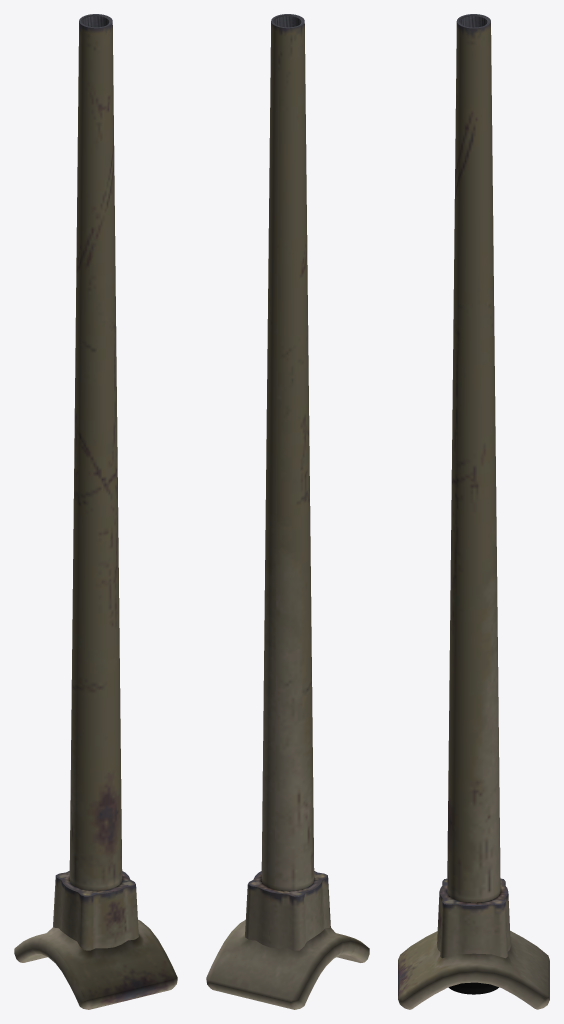
File: Gun_03.glb
3 views of the same model, side by side, from view 1: azimuth 30°, elevation 25°; view 2: azimuth 150°, elevation 25°; view 3: azimuth 270°, elevation 25° (orthographic).
Visible parts, largest first — view 1: set_0_group_0; view 2: set_0_group_0; view 3: set_0_group_0.
Part boxes in pixels (left/top/right/bottom): set_0_group_0: left=14, top=14, right=177, bottom=1009; set_0_group_0: left=206, top=14, right=369, bottom=1009; set_0_group_0: left=398, top=14, right=549, bottom=1009.
Size of the model in its own units: 0.3119 by 2.96 by 0.4203.
1 material, 1 textured.
